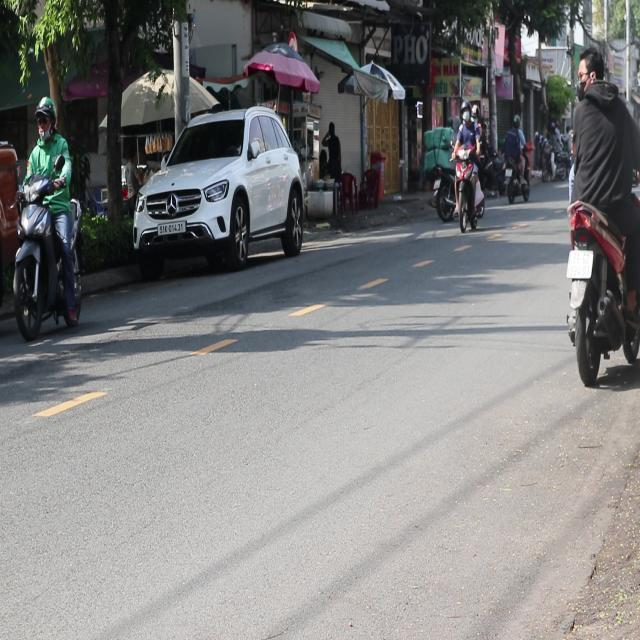helmet: (34, 95, 57, 140)
licenseplate: (560, 36, 640, 386), (12, 93, 85, 338)
motorcyclist: (575, 43, 605, 99)
nohelmet: (567, 250, 593, 278)
